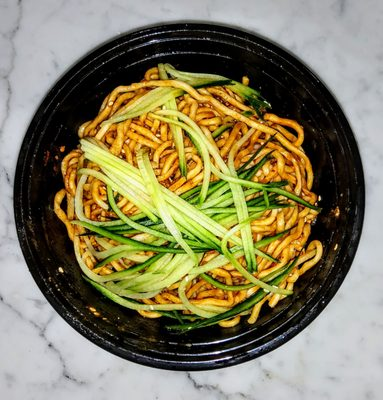sushi: (11, 16, 383, 392)
